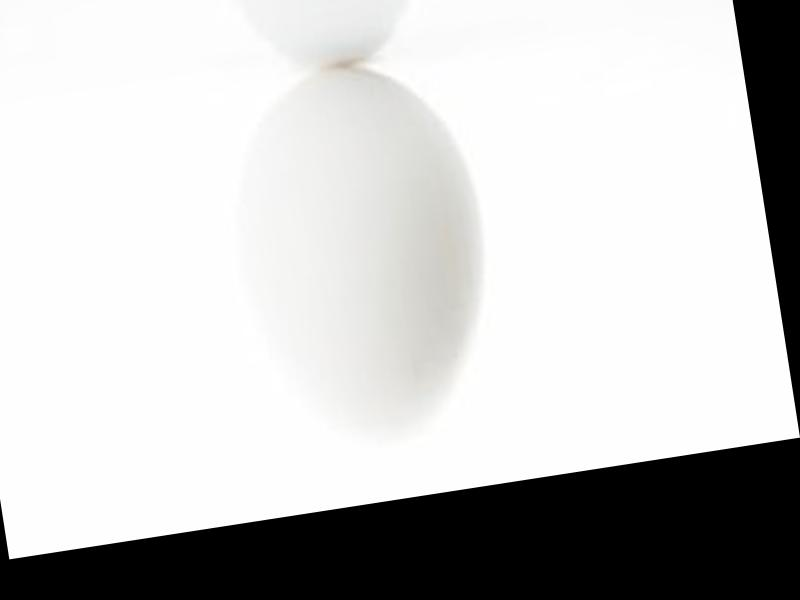Eggs: (221, 49, 511, 457)
